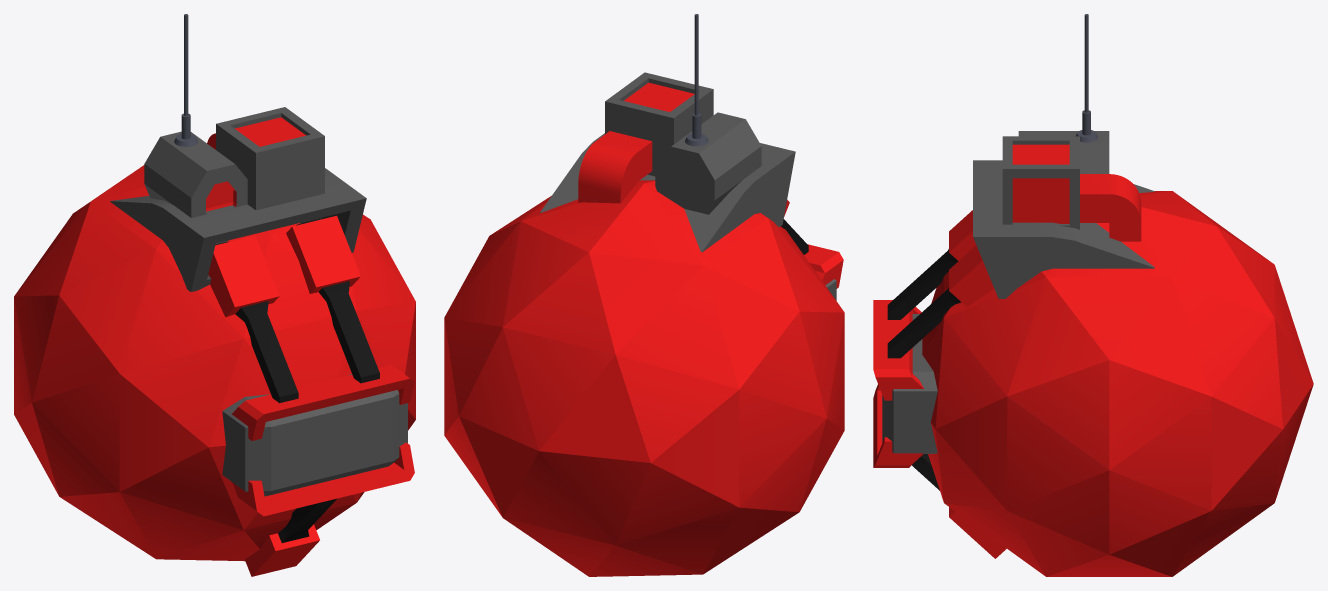
File: turretCap.fbx
3 renders of one model, left to right at view 1: azimuth 30°, elevation 25°; view 2: azimuth 150°, elevation 25°; view 3: azimuth 270°, elevation 25°, orthographic. The views are drawn at different scales.
Parts seen in each view (by area): view 1: sphere_vertex_14, block_rounded_15, engine_intakeArrow_28, detail_airSmall_29, landing_telescope%_24, landing_telescope%_23, engine_barrel_16, detail_spoilerSmall_18, detail_spoilerSmall_19, landing_telescope%_22, detail_antenna_17; view 2: sphere_vertex_14, detail_airSmall_29, engine_barrel_16, engine_intakeArrow_28, detail_spoilerSmall_18, detail_antenna_17; view 3: sphere_vertex_14, detail_airSmall_29, engine_intakeArrow_28, block_rounded_15, landing_telescope%_23, detail_spoilerSmall_18, landing_telescope%_24, engine_barrel_16, detail_spoilerSmall_19, landing_telescope%_22, detail_antenna_17.
Boxes of the visible parts, box(x1,y1,x2,y2) form: sphere_vertex_14: box(14, 165, 415, 561); block_rounded_15: box(222, 374, 407, 496); engine_intakeArrow_28: box(110, 168, 366, 291); detail_airSmall_29: box(207, 107, 324, 210); landing_telescope%_24: box(208, 235, 298, 403); landing_telescope%_23: box(286, 215, 379, 383); engine_barrel_16: box(144, 131, 247, 244); detail_spoilerSmall_18: box(232, 365, 414, 440); detail_spoilerSmall_19: box(232, 442, 414, 516); landing_telescope%_22: box(245, 498, 336, 576); detail_antenna_17: box(174, 14, 197, 146); sphere_vertex_14: box(444, 180, 844, 576); detail_airSmall_29: box(578, 72, 713, 203); engine_barrel_16: box(655, 112, 761, 214); engine_intakeArrow_28: box(540, 133, 795, 252); detail_spoilerSmall_18: box(804, 244, 843, 288); detail_antenna_17: box(685, 14, 708, 146); sphere_vertex_14: box(922, 191, 1313, 576); detail_airSmall_29: box(1002, 136, 1141, 241); engine_intakeArrow_28: box(973, 160, 1154, 298); block_rounded_15: box(882, 314, 937, 453); landing_telescope%_23: box(887, 245, 993, 358); detail_spoilerSmall_18: box(873, 300, 923, 400); landing_telescope%_24: box(887, 210, 976, 319); engine_barrel_16: box(1018, 131, 1109, 173); detail_spoilerSmall_19: box(873, 384, 923, 467); landing_telescope%_22: box(911, 454, 1006, 558); detail_antenna_17: box(1076, 14, 1097, 142).
Size of the model in its own units: 18 by 26 by 19.4.
